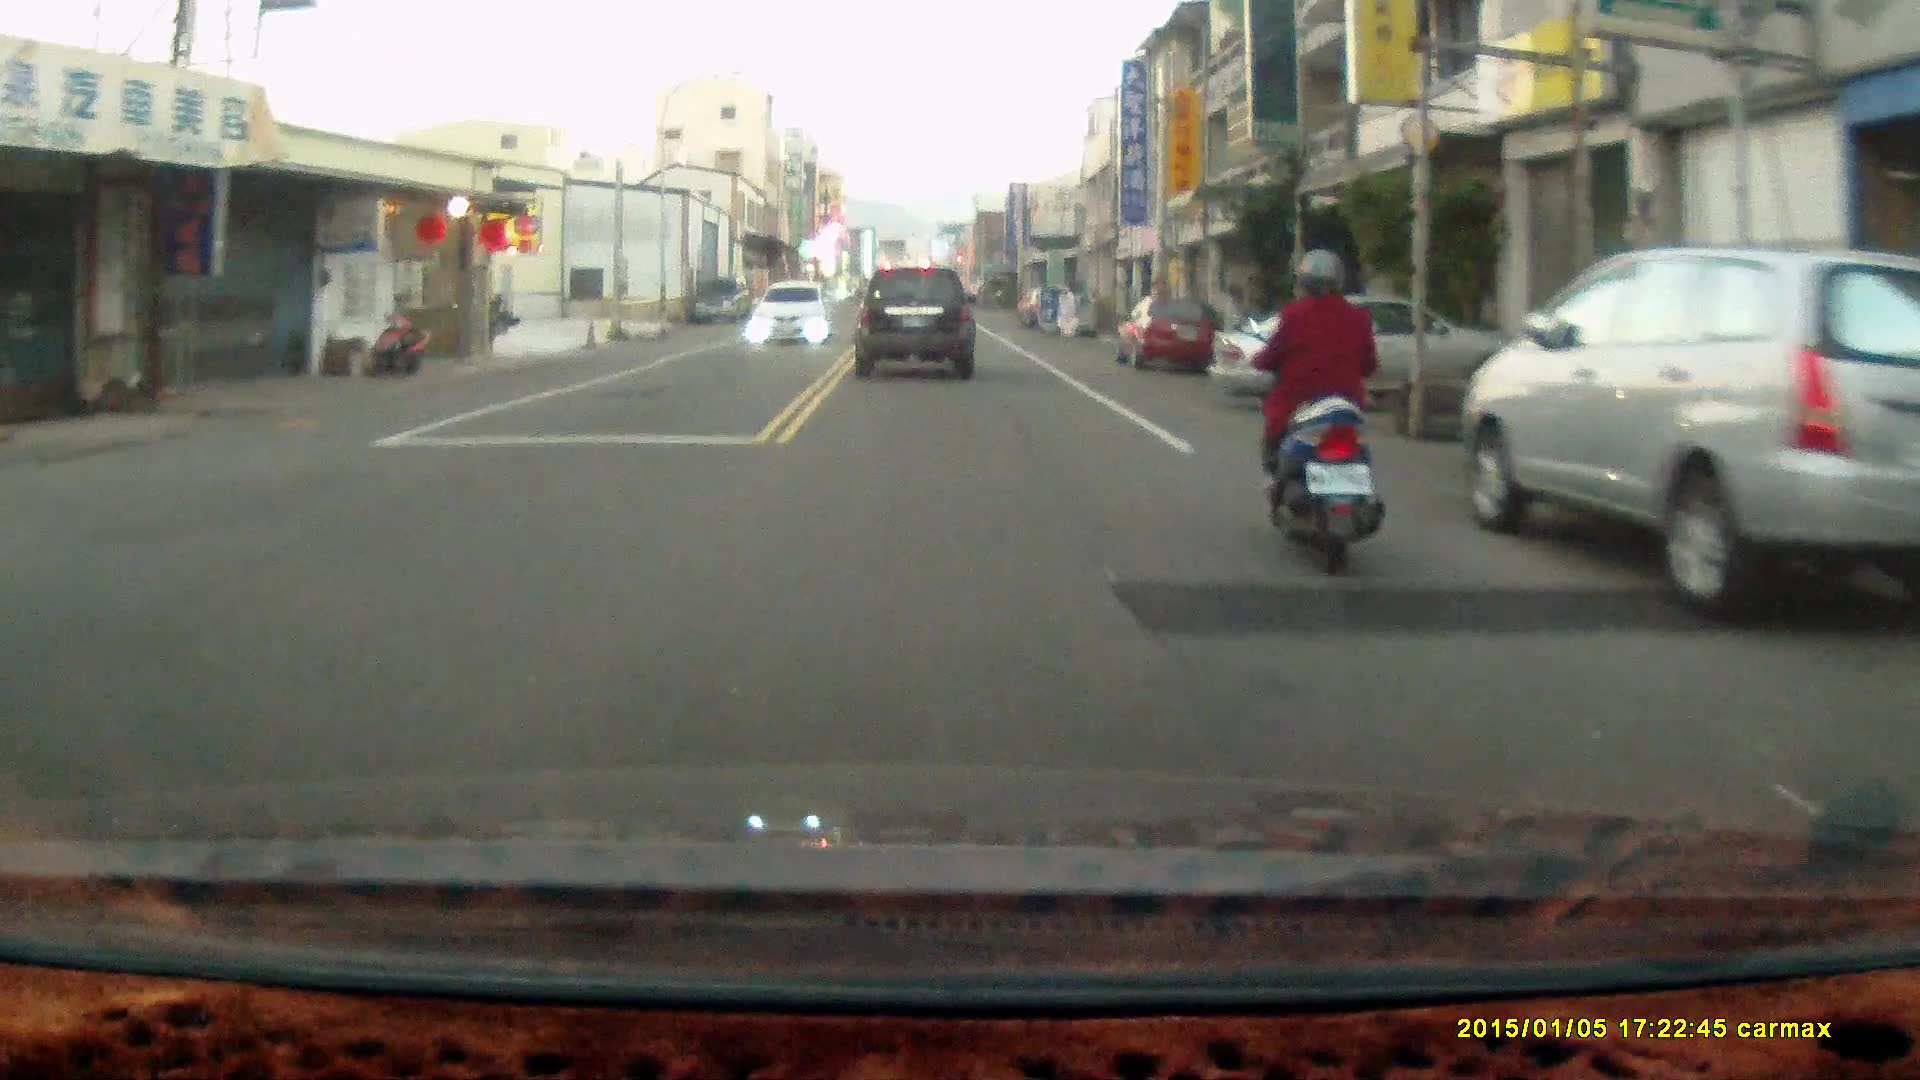rider: (1233, 246, 1390, 568)
vehicle: (1459, 246, 1920, 631), (1212, 297, 1495, 420), (854, 261, 981, 378), (1115, 293, 1228, 369), (749, 279, 835, 344), (692, 278, 752, 325)
